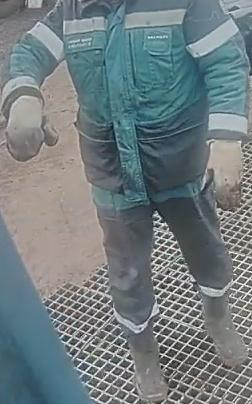gloves: (3, 87, 60, 165), (205, 139, 242, 211)
vest: (59, 0, 248, 206)
